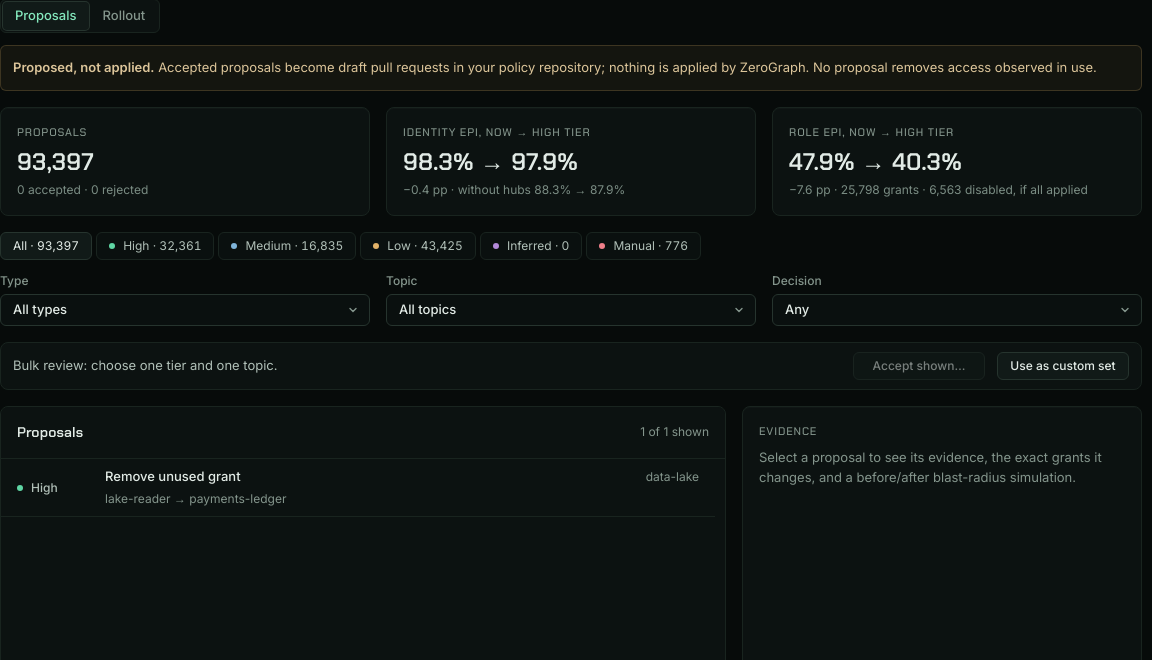
Proposals view › opens the evidence, simulates before/after and records a decision
Click the button "Remove unused grant". click: (173, 476)
box: [1,459,715,517]
(page scrolled)
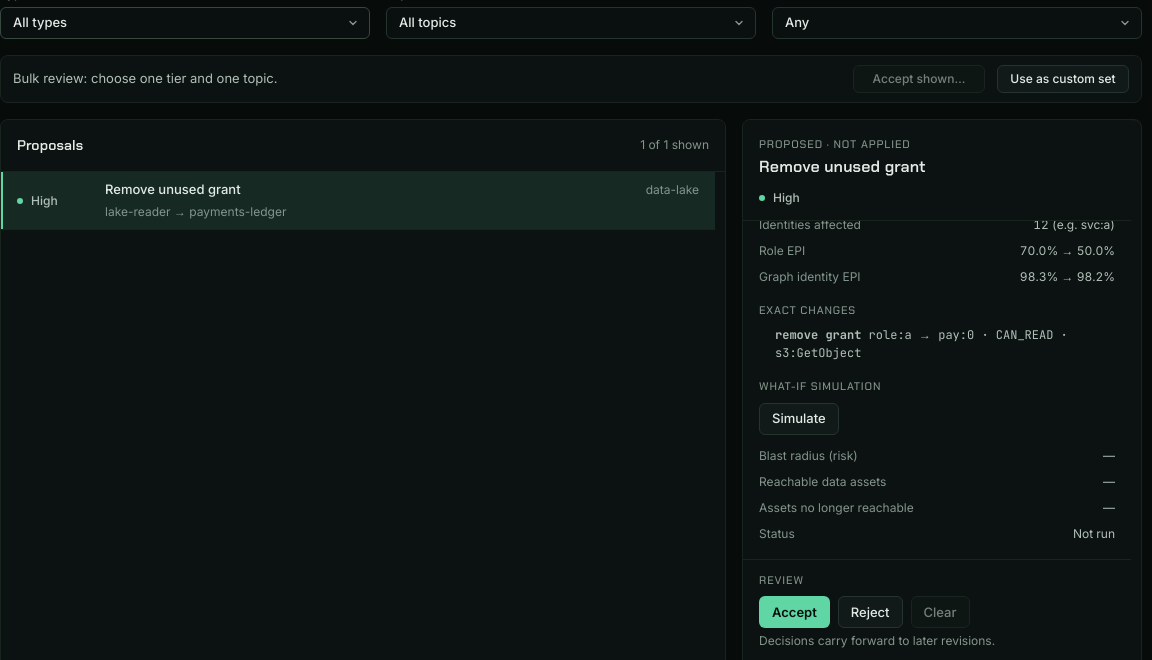
Expected: the text "Proposed · not applied" is shown, [759,137,910,151]
Expected: the text "70.0% → 50.0%" is shown, [1020,243,1115,258]
Click the button "Simulate". click: (799, 419)
box: [759,403,839,435]
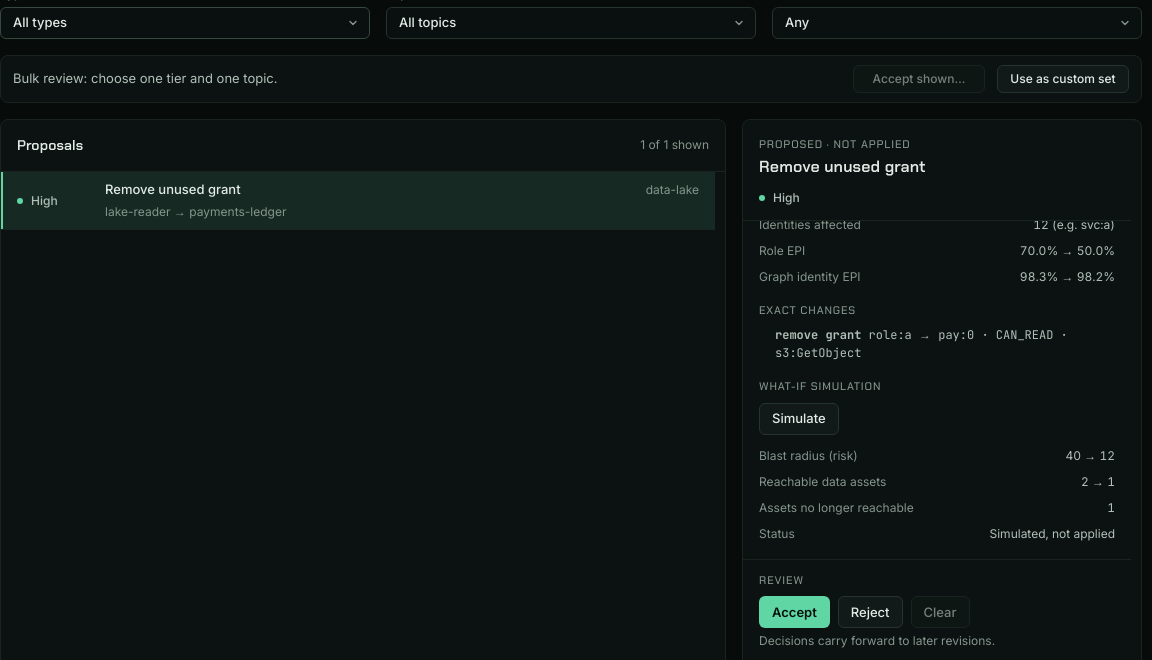
Expected: the button "Accept" is shown
Expected: the text "40 → 12" is shown, [1065,448,1115,463]
Expected: the text "2 → 1" is shown, [1081,474,1115,489]
Click the button "Accept". click: (794, 612)
box: [759,596,830,628]
(page scrolled)
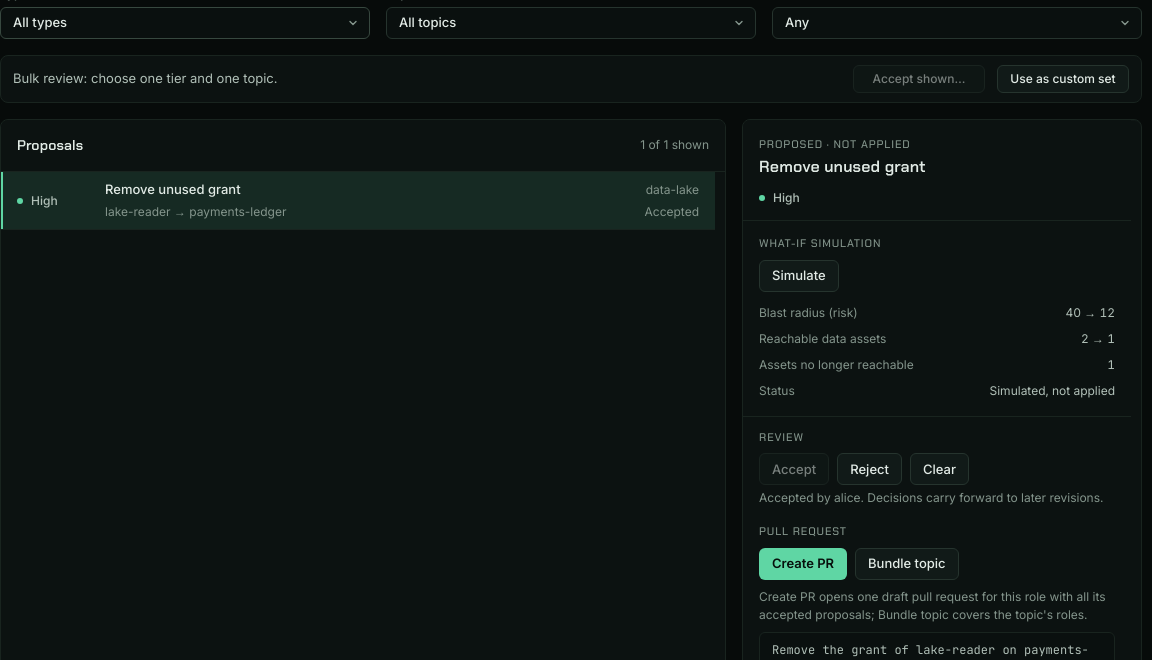
Expected: the text "Accepted by alice" is shown, [759,490,867,505]
# Accepted and eligible: Create PR stores the change and opens its draft pull request.
Click the button "Create PR". click: (803, 564)
box: [759,548,847,580]
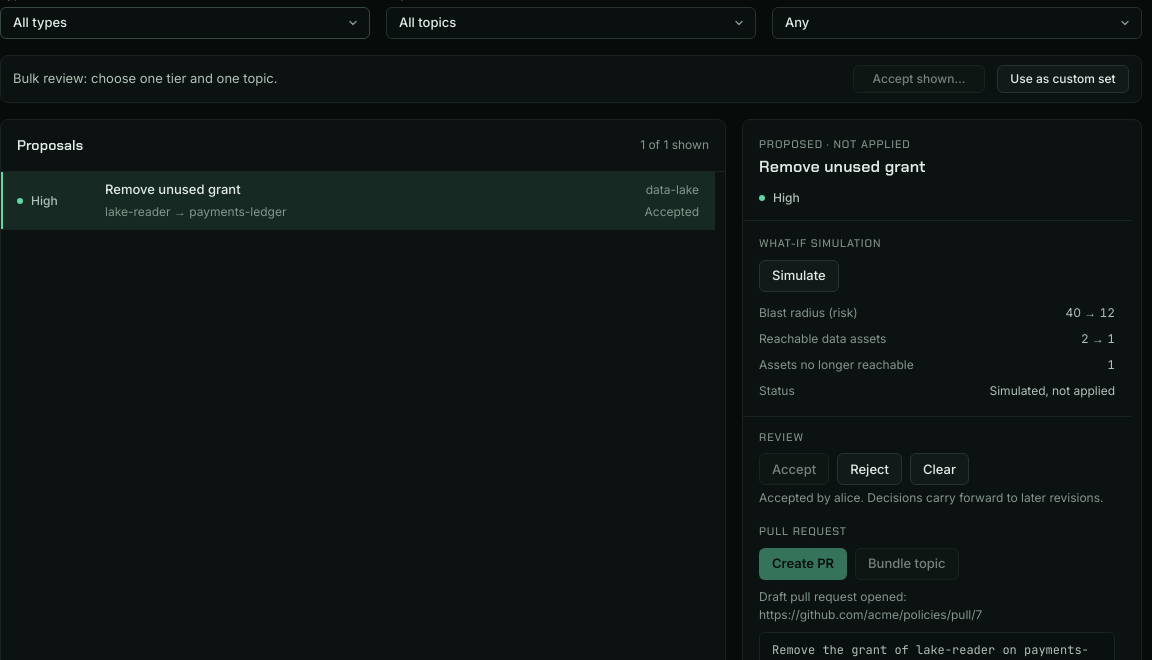
Expected: the text "Draft pull request opened: https://github.com" is shown, [759,589,982,622]
Expected: the button "Create PR" is disabled, [759,548,847,580]
